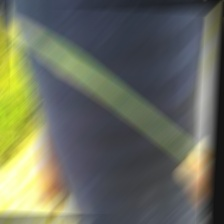Leaf_Blast: (27, 44, 99, 82)
